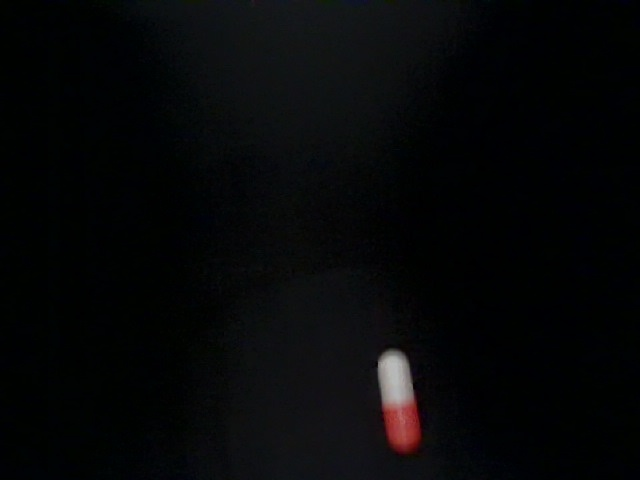YHLJ: (399, 168, 523, 247)
